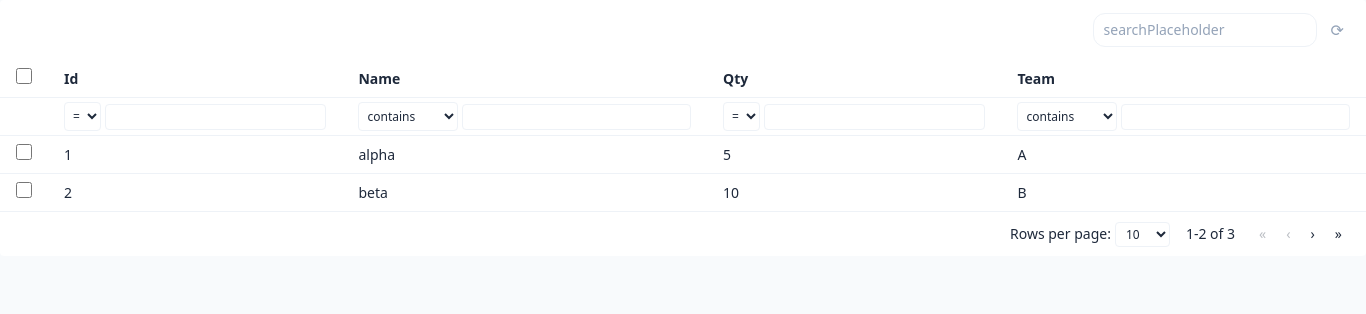
Scenario: Table › keeps selection when built-in bulk update rejects
Click the checkbox named "Select row 1".
click(24, 152)  # box [16, 144, 32, 160]
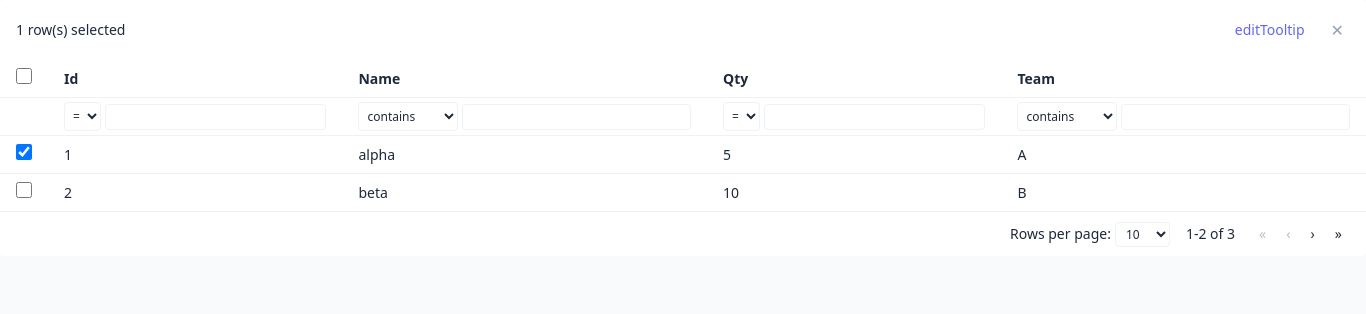
Click the button "editTooltip".
click(1270, 30)  # box [1223, 16, 1317, 44]
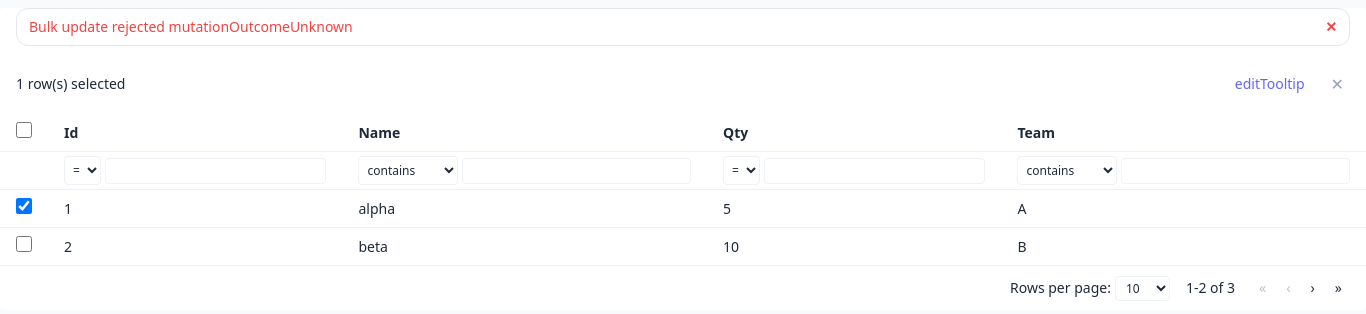
Check: the checkbox named "Select row 1" is checked, box [16, 198, 32, 214]
Check: the message shows "Bulk update rejected", box [29, 17, 353, 36]
